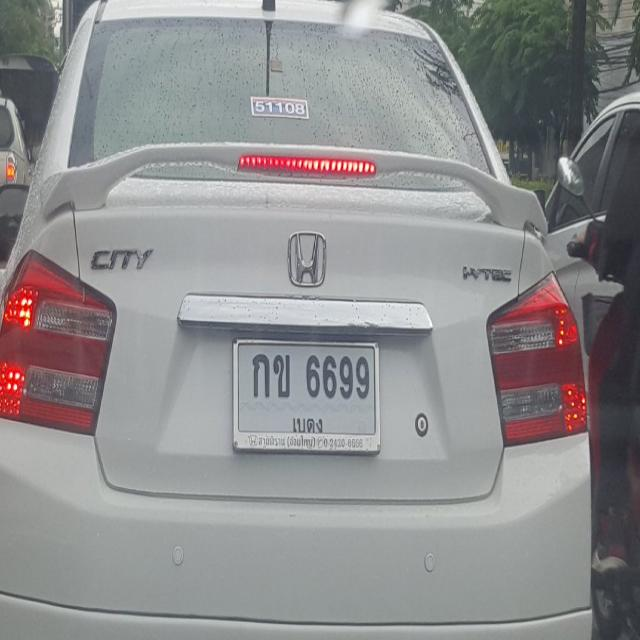license_plate: (226, 330, 387, 462)
